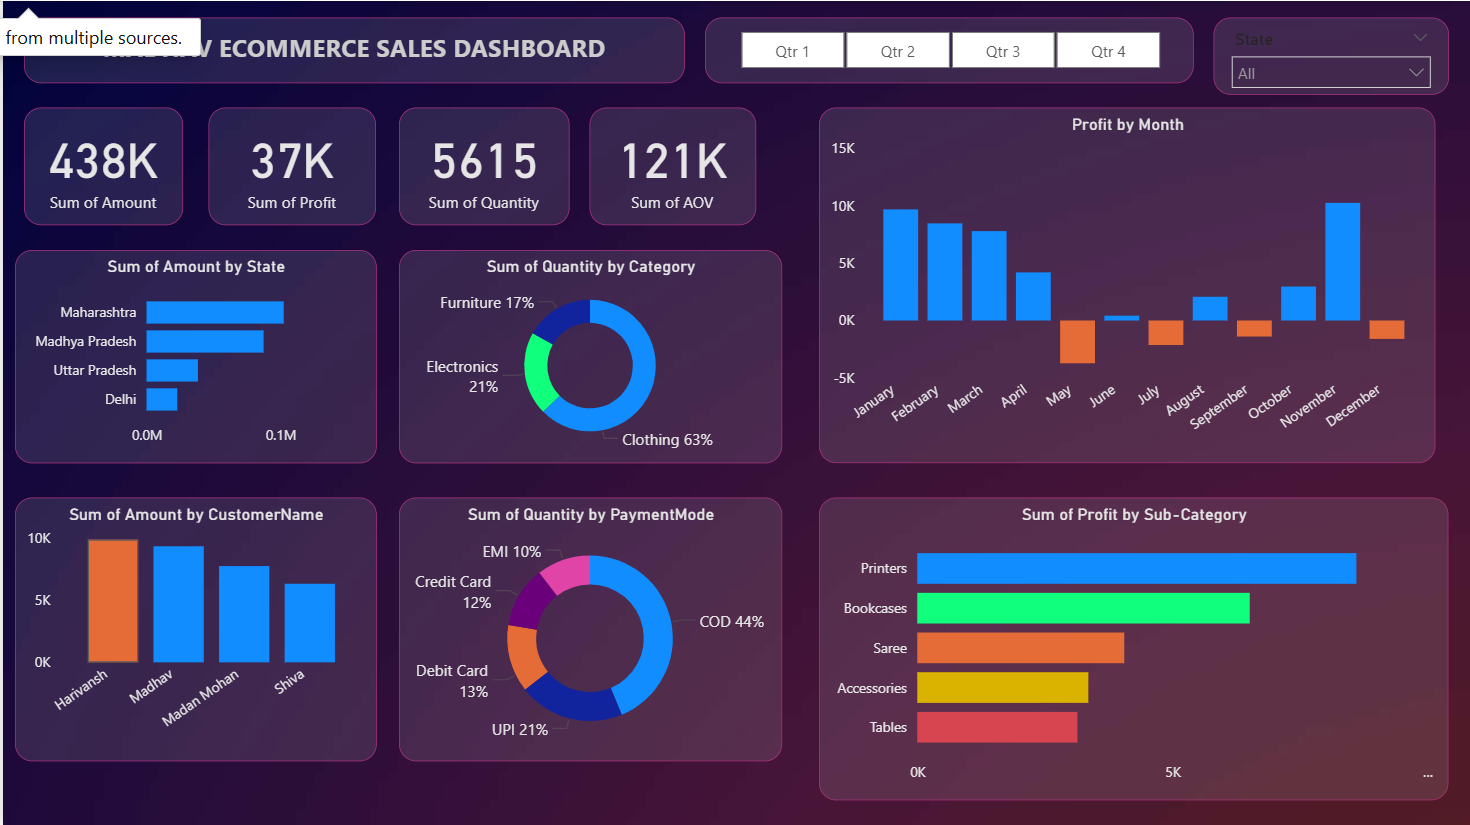

Layout of this report page (visuals, bound fields, positions):
{"tool":"powerbi","page":{"name":"Page 1","canvas":[1280,720],"ordinal":0},"visuals":[{"type":"textbox","box":[18.8,13.8,576.2,57.5],"z":0},{"type":"columnChart","title":"Profit by Month","fields":{"Y":["Details.Profit"],"Category":["Orders.Order Date.Variation.Date Hierarchy.Month"]},"box":[711.2,92.5,537.5,310],"z":1000},{"type":"barChart","fields":{"Category":["Details.Sub-Category"],"Y":["Details.Profit"]},"box":[711.2,432.5,548.8,263.8],"z":2000},{"type":"donutChart","fields":{"Category":["Details.Category"],"Y":["Details.Quantity"]},"box":[345,217.5,333.8,186.2],"z":3000},{"type":"donutChart","fields":{"Y":["Details.Quantity"],"Category":["Details.PaymentMode"]},"box":[345,432.5,333.8,230],"z":4000},{"type":"card","fields":{"Values":["Details.Amount"]},"box":[18.8,92.5,138.8,102.5],"z":5000},{"type":"card","fields":{"Values":["Details.Profit"]},"box":[178.8,92.5,146.2,102.5],"z":6000},{"type":"card","fields":{"Values":["Details.Quantity"]},"box":[345,92.5,148.8,102.5],"z":7000},{"type":"card","fields":{"Values":["Details.AOV"]},"box":[511.2,92.5,145,102.5],"z":8000},{"type":"barChart","fields":{"Category":["Orders.State"],"Y":["Details.Amount"]},"box":[10,217.5,315,186.2],"z":9000},{"type":"columnChart","fields":{"Category":["Orders.CustomerName"],"Y":["Details.Amount"]},"box":[10,432.5,315,230],"z":10000},{"type":"slicer","fields":{"Values":["Orders.Order Date.Variation.Date Hierarchy.Quarter"]},"box":[612.5,13.8,426.2,57.5],"z":11000},{"type":"slicer","fields":{"Values":["Orders.State"]},"box":[1055,13.8,205,67.5],"z":12000}]}

Visuals, with their boxes in screenshot pixels (x1, y1, x2, y2), scaled from the page's 1280x720 canvas onto the 1470x825 screenshot:
textbox: (x1=22, y1=16, x2=683, y2=82)
"Profit by Month" columnChart: (x1=817, y1=106, x2=1434, y2=461)
barChart - Details.Sub-Category x Details.Profit: (x1=817, y1=496, x2=1447, y2=798)
donutChart - Details.Category x Details.Quantity: (x1=396, y1=249, x2=780, y2=463)
donutChart - Details.Quantity x Details.PaymentMode: (x1=396, y1=496, x2=780, y2=759)
card - Details.Amount: (x1=22, y1=106, x2=181, y2=223)
card - Details.Profit: (x1=205, y1=106, x2=373, y2=223)
card - Details.Quantity: (x1=396, y1=106, x2=567, y2=223)
card - Details.AOV: (x1=587, y1=106, x2=754, y2=223)
barChart - Orders.State x Details.Amount: (x1=11, y1=249, x2=373, y2=463)
columnChart - Orders.CustomerName x Details.Amount: (x1=11, y1=496, x2=373, y2=759)
slicer - Orders.Order Date.Variation.Date Hierarchy.Quarter: (x1=703, y1=16, x2=1193, y2=82)
slicer - Orders.State: (x1=1212, y1=16, x2=1447, y2=93)
